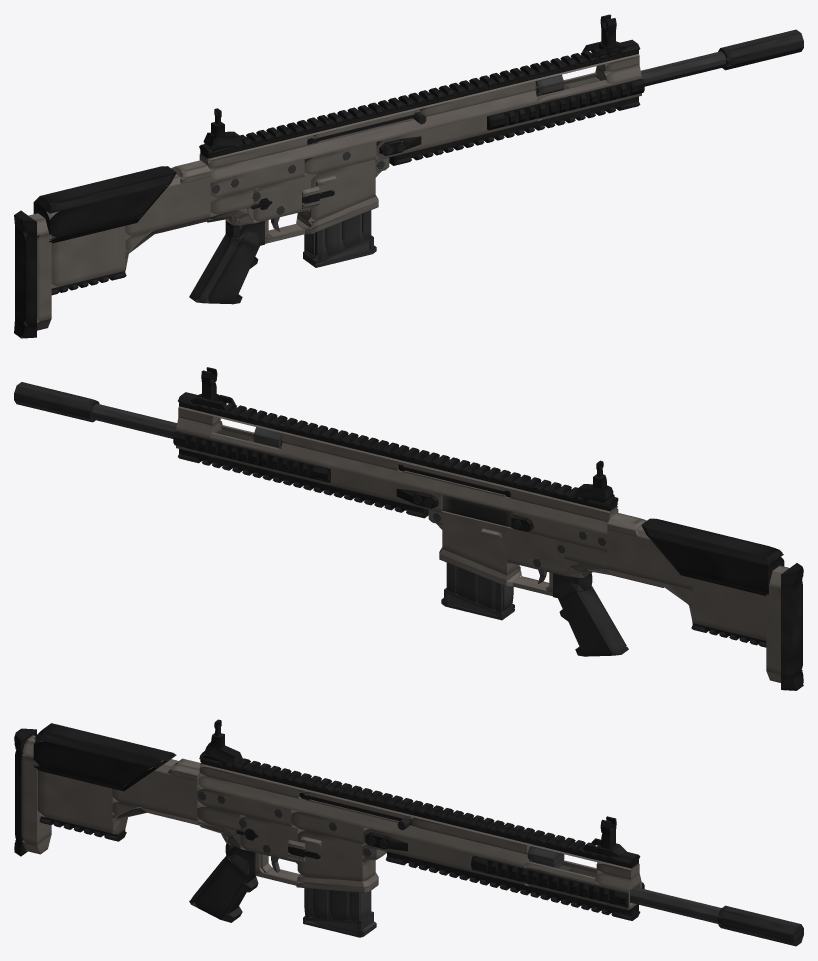
Rendered from fnscarssr.obj.
3 renders of one model, top to bottom at view 1: azimuth 30°, elevation 25°; view 2: azimuth 150°, elevation 25°; view 3: azimuth 330°, elevation 25°, orthographic.
Parts seen in each view (by area): view 1: gunModel66, gunModel319, gunModel310, gunModel115, gunModel315, gunModel313, gunModel2, gunModel343, gunModel99, gunModel3, defaultGripModel0, gunModel65 (+11 smaller); view 2: gunModel66, gunModel319, gunModel310, gunModel2, gunModel115, gunModel315, gunModel313, gunModel343, gunModel99, gunModel3, defaultGripModel0, gunModel174 (+11 smaller); view 3: gunModel66, gunModel319, gunModel115, gunModel310, gunModel315, gunModel313, gunModel2, gunModel99, gunModel340, gunModel3, gunModel174, defaultGripModel0 (+22 smaller).
Boxes of the visible parts, x1,y1,x2,y2 form: gunModel66: (208,90,537,182); gunModel319: (46,211,125,288); gunModel310: (33,185,167,239); gunModel115: (200,50,638,158); gunModel315: (125,177,210,237); gunModel313: (34,166,172,213); gunModel2: (298,159,375,222); gunModel343: (15,227,36,325); gunModel99: (376,102,537,160); gunModel3: (247,173,310,223); defaultGripModel0: (198,239,258,304); gunModel65: (210,159,304,199); gunModel66: (280,443,607,534); gunModel319: (692,578,766,640); gunModel310: (650,537,784,592); gunModel2: (442,511,519,574); gunModel115: (179,402,617,511); gunModel315: (607,529,693,589); gunModel313: (645,518,783,565); gunModel343: (781,580,802,677); gunModel99: (280,455,442,512); gunModel3: (507,527,564,575); defaultGripModel0: (559,587,613,656); gunModel174: (179,449,427,513); gunModel66: (198,775,529,866); gunModel319: (37,764,114,833); gunModel115: (200,759,638,868); gunModel310: (33,731,151,786); gunModel315: (112,770,206,821); gunModel313: (34,723,172,767); gunModel2: (297,830,363,881); gunModel99: (363,829,525,884); gunModel340: (21,756,51,844); gunModel3: (240,815,305,862); gunModel174: (387,851,638,915); defaultGripModel0: (191,860,246,919).
Size of the model in its own units: 30.8 by 7.32 by 1.38.
